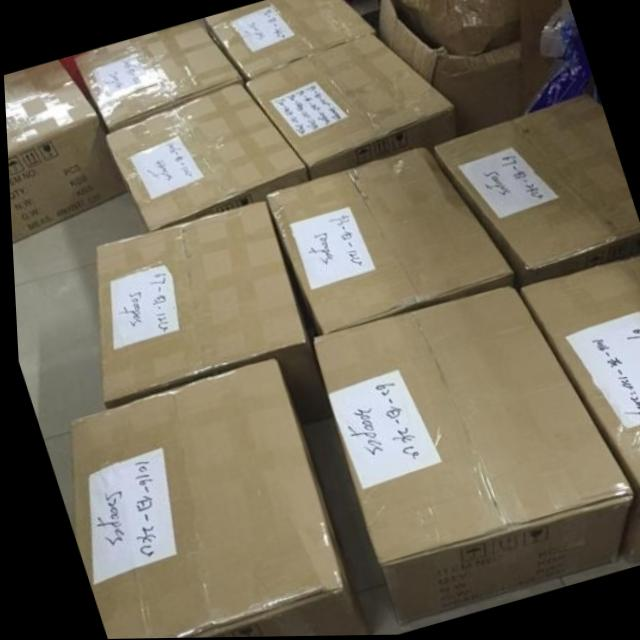box: (307, 287, 626, 623), (64, 356, 363, 639), (92, 204, 327, 426), (265, 147, 511, 337), (432, 96, 640, 284), (514, 260, 640, 567), (245, 34, 456, 178), (104, 83, 308, 230), (3, 60, 126, 242), (375, 0, 525, 141), (71, 22, 242, 133), (200, 0, 374, 80), (396, 0, 519, 56)
